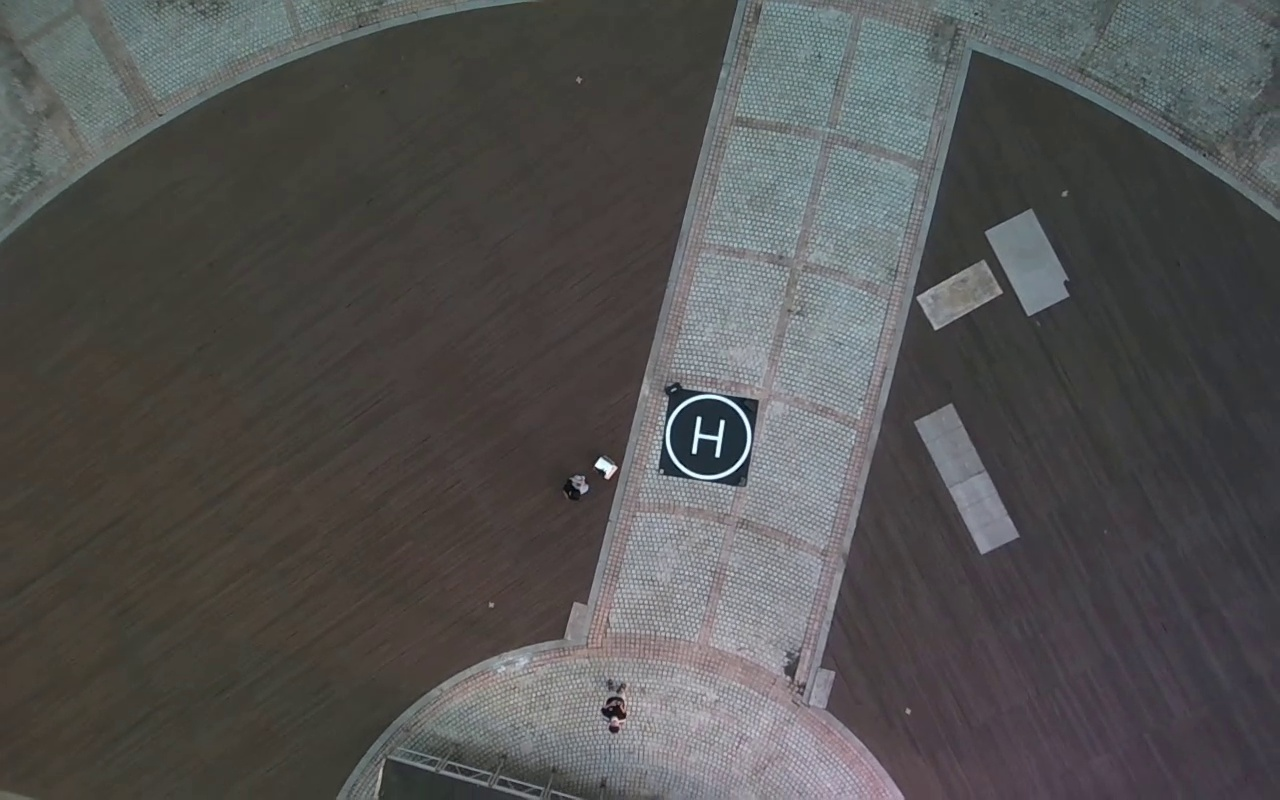H: (688, 415, 726, 459)
heliport: (664, 393, 752, 479)
